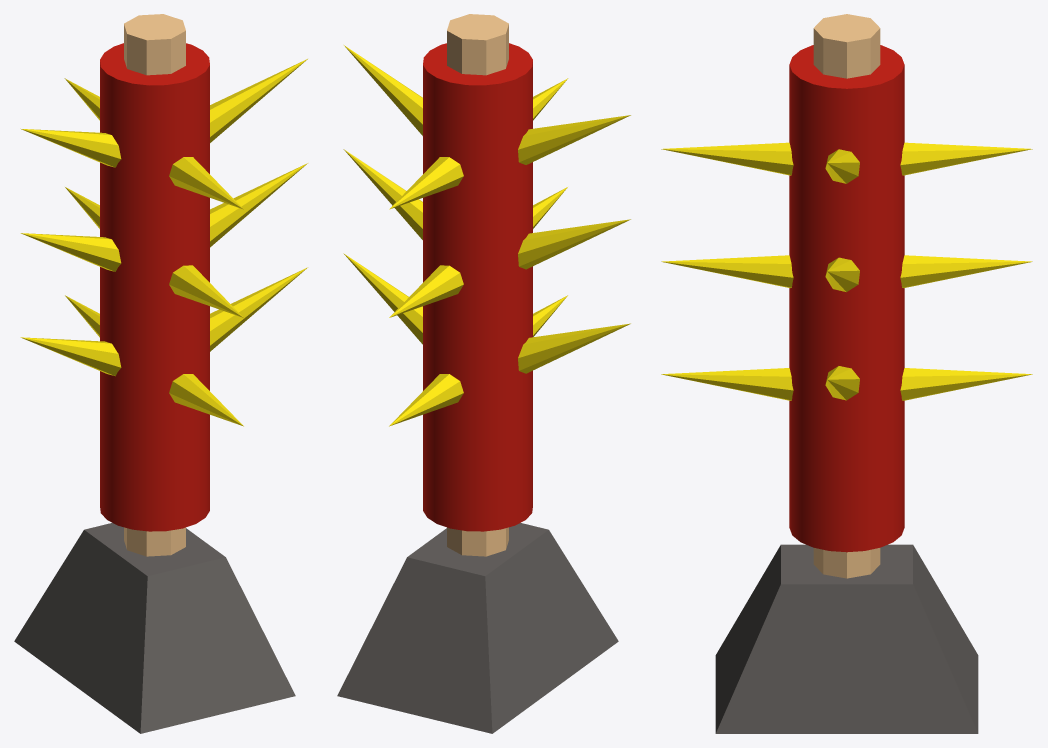
Rendered from obs2.fbx.
3 views of the same model, side by side, from view 1: azimuth 30°, elevation 25°; view 2: azimuth 150°, elevation 25°; view 3: azimuth 270°, elevation 25° (orthographic). The views are drawn at different scales.
Parts seen in each view (by area): view 1: obs2; view 2: obs2; view 3: obs2.
Boxes of the visible parts, x1=… form: obs2: x1=14, y1=14, x2=307, y2=733; obs2: x1=337, y1=14, x2=630, y2=733; obs2: x1=661, y1=14, x2=1032, y2=733.
Size of the model in its own units: 16.14 by 34.26 by 17.42.
